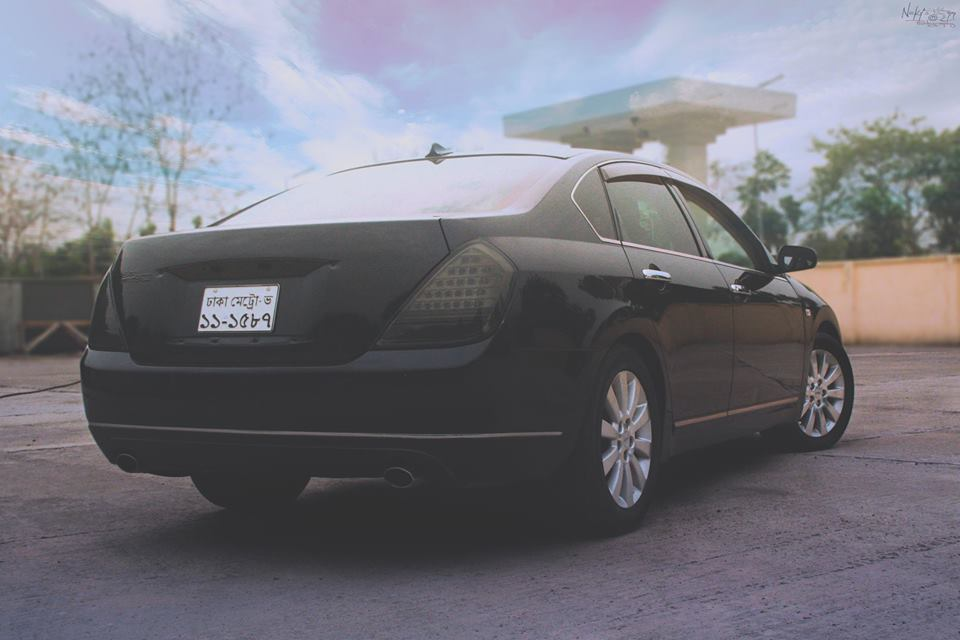registration_plate: (196, 283, 281, 333)
